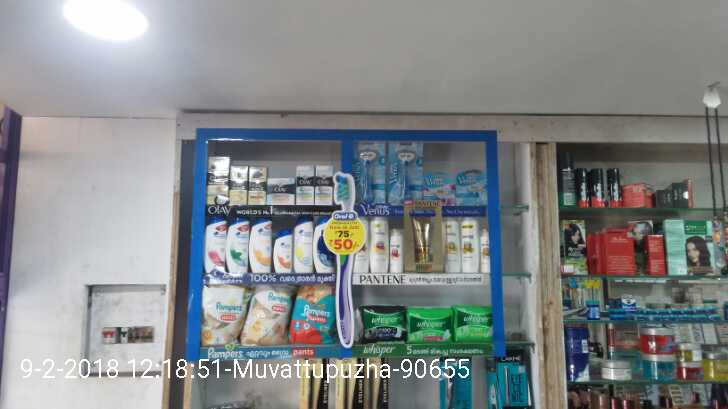gillete: (557, 153, 577, 206), (591, 169, 605, 206), (608, 168, 620, 206), (578, 168, 588, 207)
venus: (356, 140, 388, 204), (388, 144, 420, 205), (455, 171, 486, 205), (426, 172, 455, 205)
